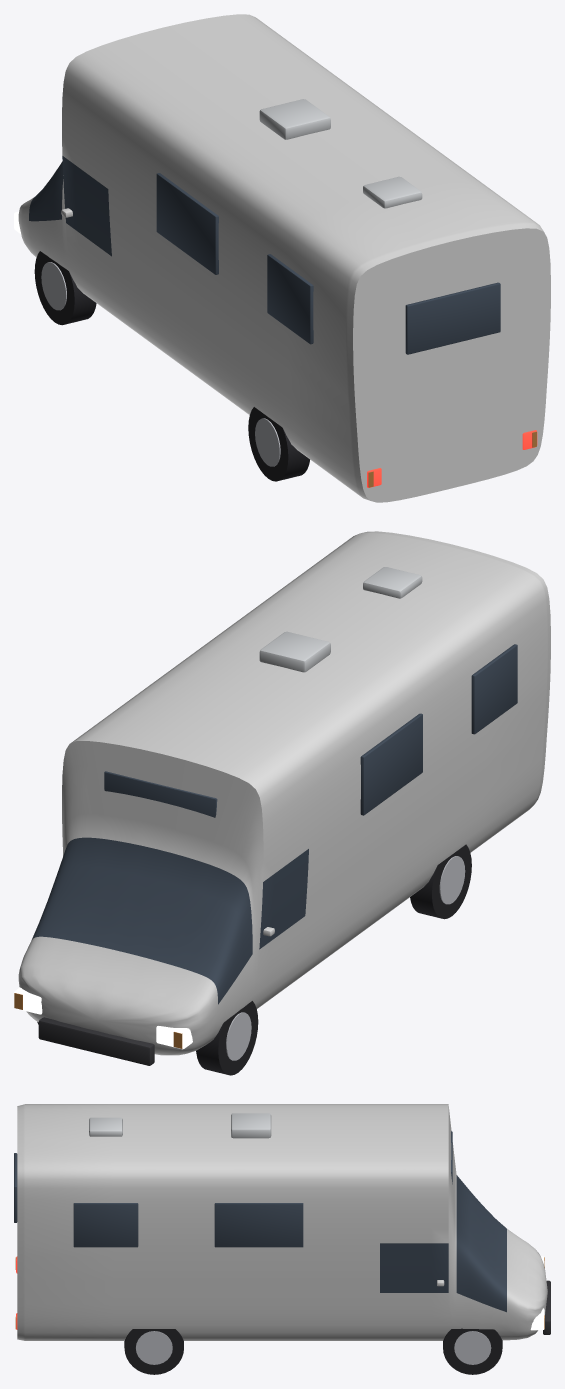
The model's file is auto_freq_caravan_lod0.glb.
3 views of the same model, one above another, from view 1: azimuth 30°, elevation 25°; view 2: azimuth 150°, elevation 25°; view 3: azimuth 270°, elevation 25° (orthographic). The views are drawn at different scales.
Visible parts, largest first — view 1: Karosserie, Rad_HL, Rad_VL; view 2: Karosserie, Rad_VL, Rad_HL; view 3: Karosserie, Rad_VR, Rad_HR.
Boxes of the visible parts, <box> form: Karosserie: <box>14,14,550,502</box>; Rad_HL: <box>248,407,309,481</box>; Rad_VL: <box>34,251,96,325</box>; Karosserie: <box>14,531,550,1065</box>; Rad_VL: <box>196,1001,258,1075</box>; Rad_HL: <box>410,844,471,919</box>; Karosserie: <box>14,1104,550,1340</box>; Rad_VR: <box>443,1328,502,1374</box>; Rad_HR: <box>124,1329,183,1374</box>.
Size of the model in its own units: 2.24 by 3.02 by 6.66.
